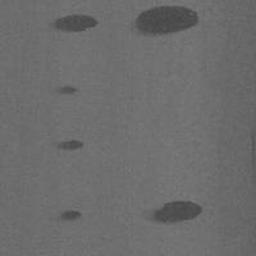Oil spot: (129, 4, 201, 38), (141, 200, 205, 227), (49, 13, 100, 33), (50, 137, 84, 152), (47, 209, 83, 223), (52, 83, 82, 96)
